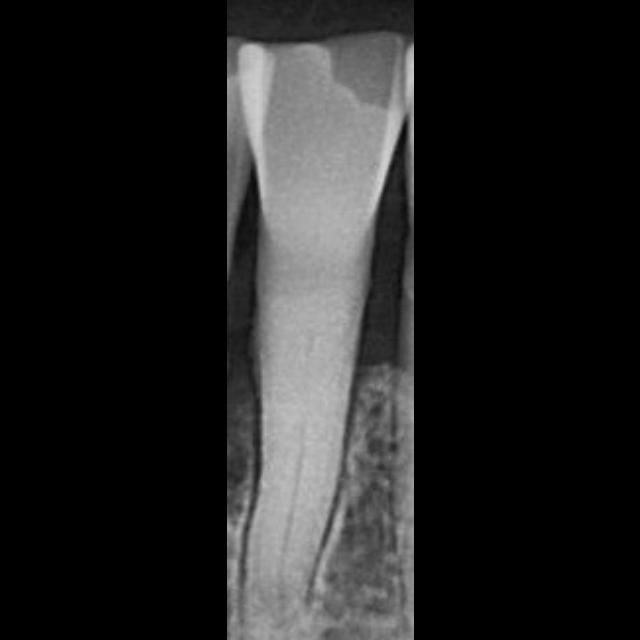tooth: (238, 30, 404, 638)
